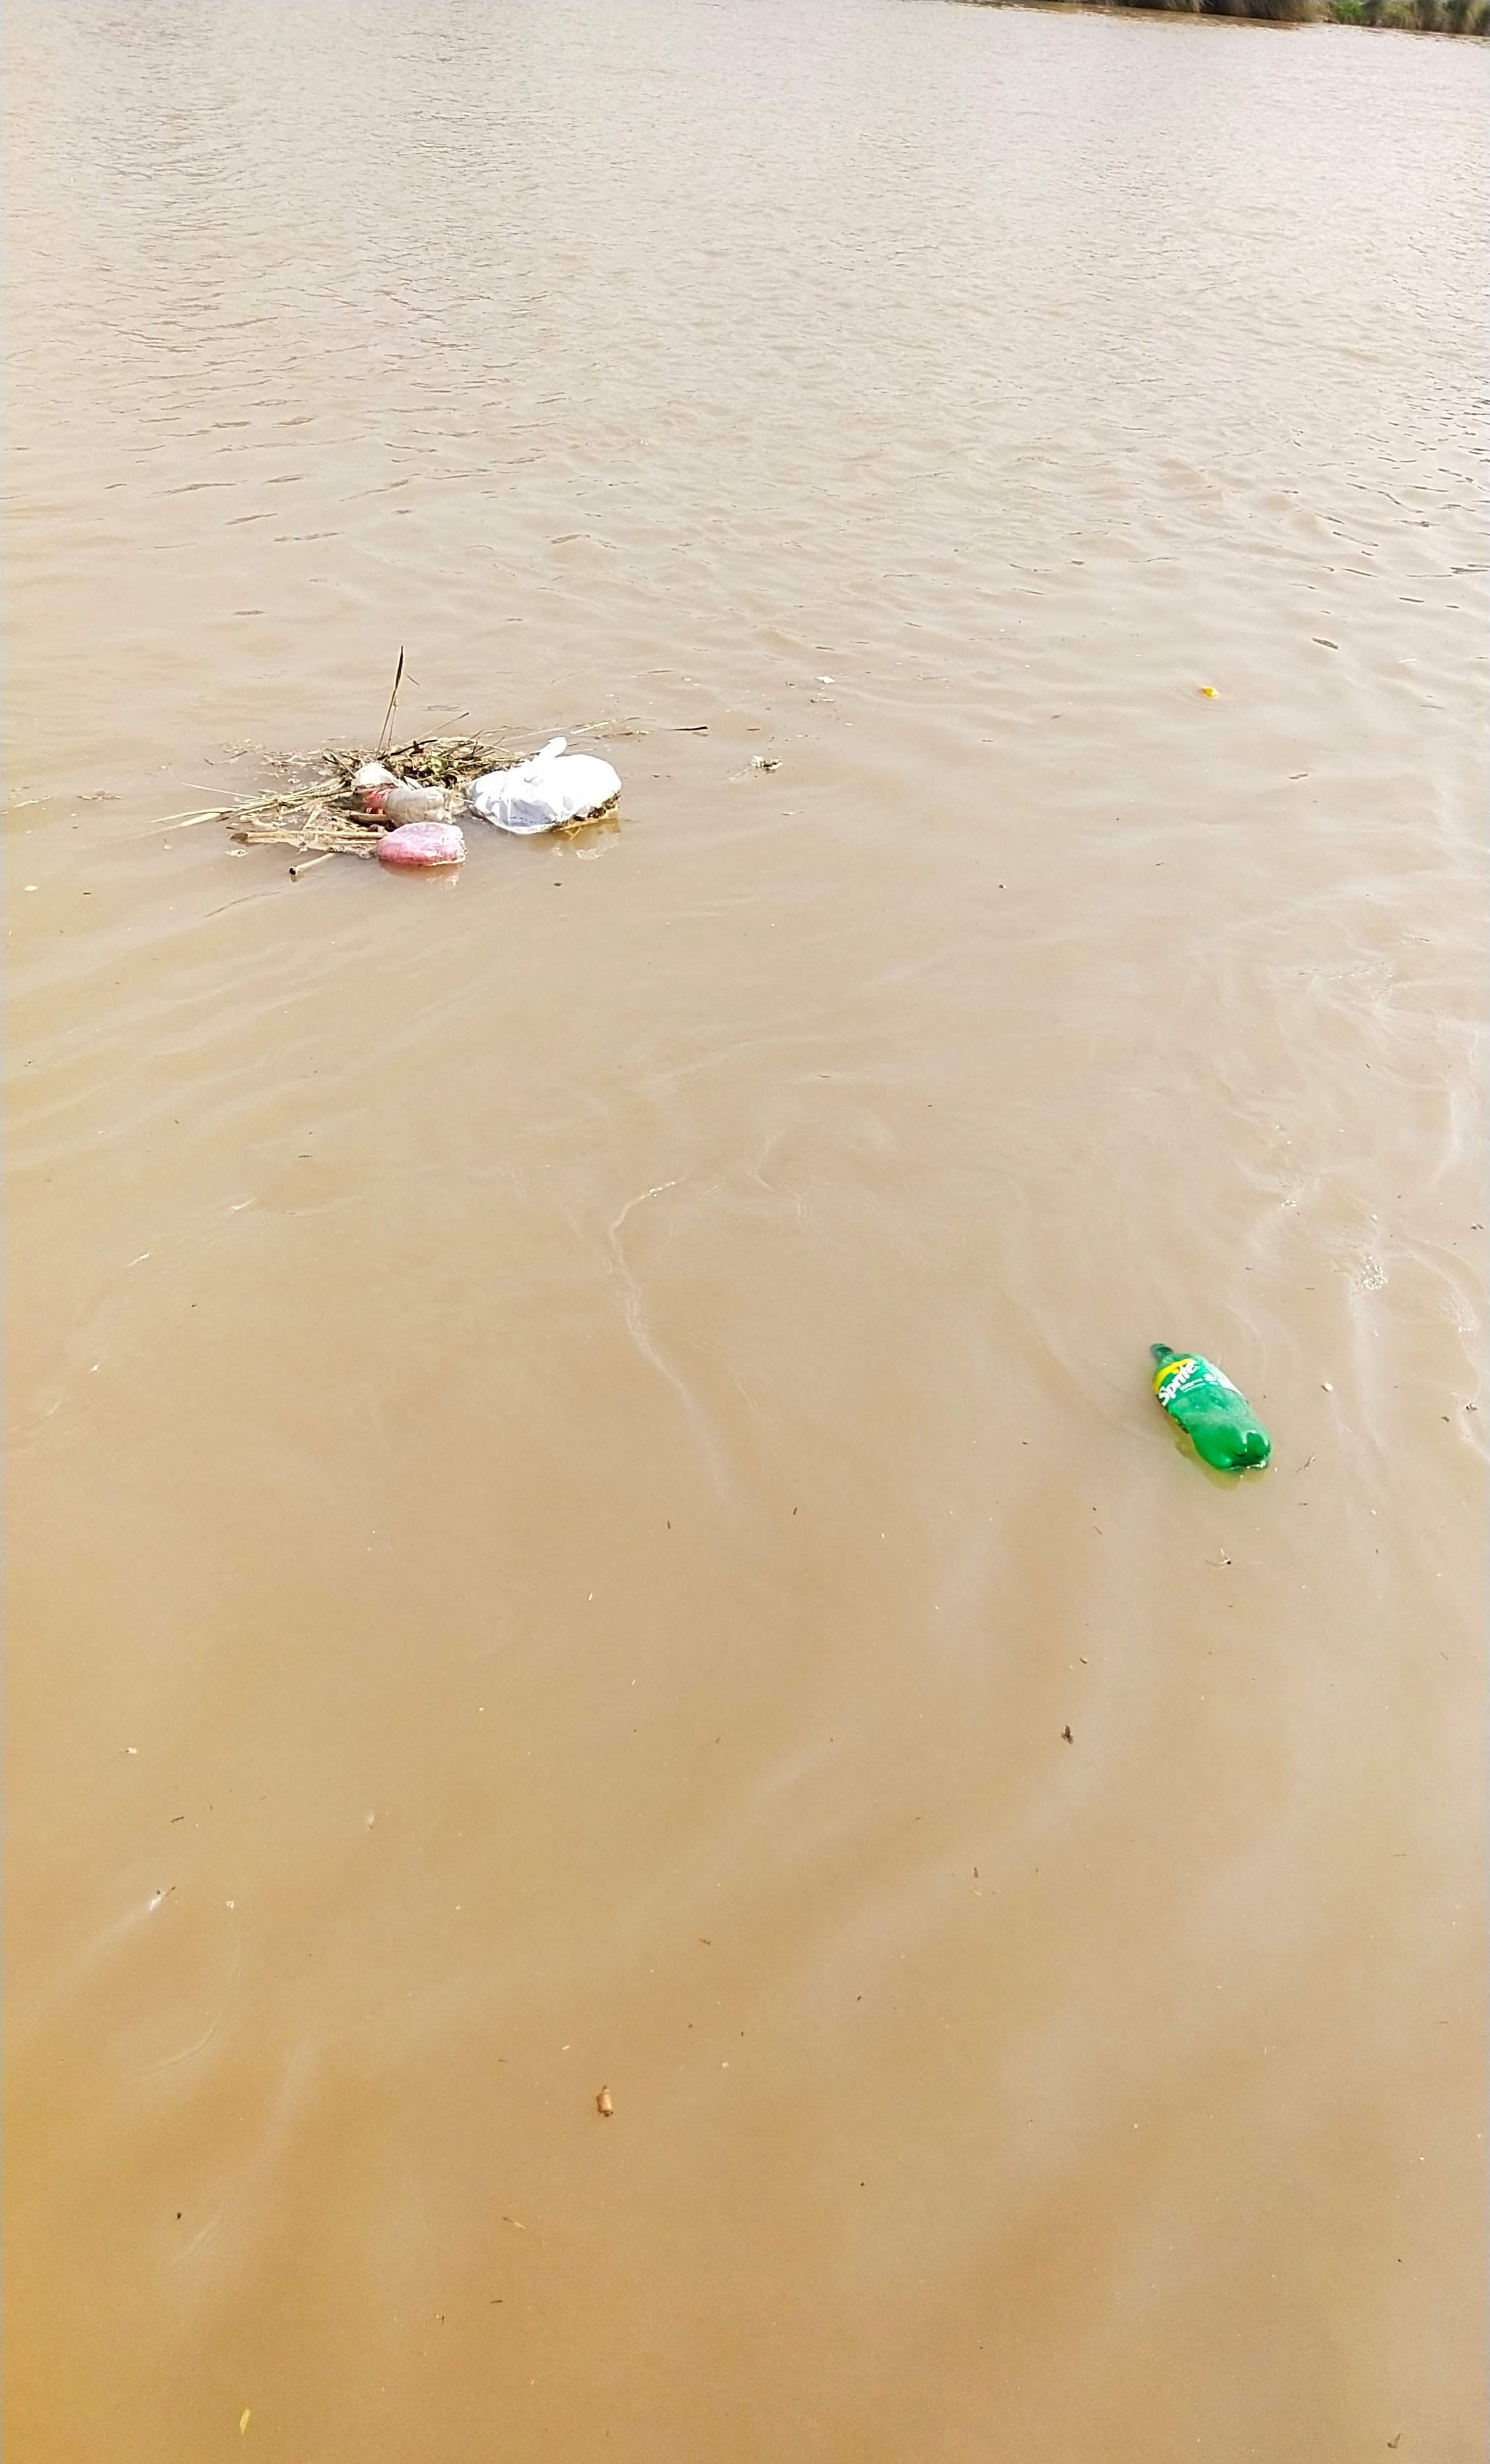Plastic Bottle: (1150, 1343, 1270, 1473), (357, 787, 454, 824)
